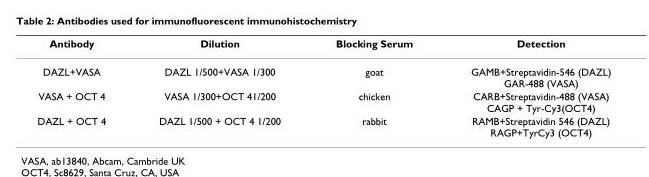table: (36, 36, 610, 137)
table column: (131, 36, 307, 137), (441, 36, 610, 137), (307, 36, 441, 137), (36, 36, 131, 137)
table column header: (36, 36, 610, 57)
table row: (36, 57, 610, 89), (36, 89, 610, 113), (36, 113, 610, 137), (36, 36, 610, 57)
